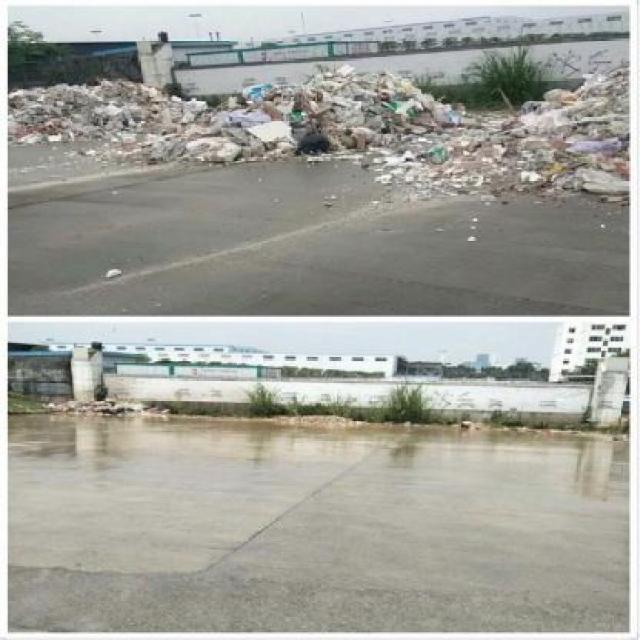garbage: (17, 82, 638, 199), (43, 394, 634, 437)
